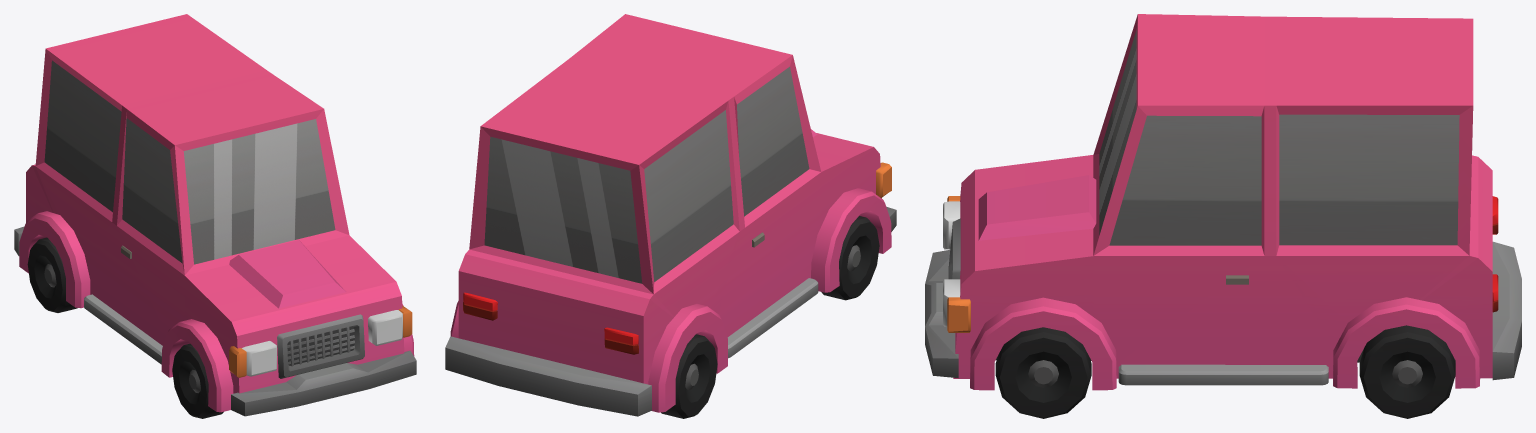
Rendered from Car_5_16.fbx.
3 renders of one model, left to right at view 1: azimuth 30°, elevation 25°; view 2: azimuth 150°, elevation 25°; view 3: azimuth 270°, elevation 25°, orthographic. The views are drawn at different scales.
Visible parts, largest first — view 1: Car_5_16, W_br, W_fr; view 2: Car_5_16, W_br, W_fr; view 3: Car_5_16, W_bl, W_fl.
Part boxes in pixels (<box>): Car_5_16: <box>14,14,416,416</box>; W_br: <box>27,237,77,312</box>; W_fr: <box>172,343,223,418</box>; Car_5_16: <box>445,14,896,416</box>; W_br: <box>661,334,717,418</box>; W_fr: <box>821,216,879,300</box>; Car_5_16: <box>925,14,1521,390</box>; W_bl: <box>1359,325,1455,418</box>; W_fl: <box>995,327,1091,418</box>.
Size of the model in its own units: 113 by 130 by 233.
